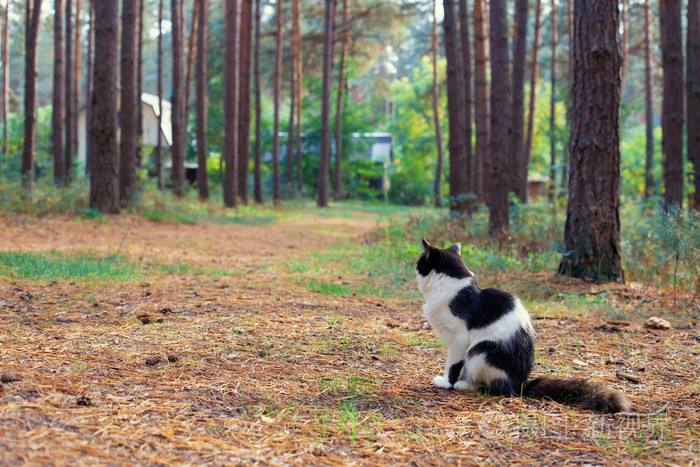cat: (414, 235, 627, 416)
